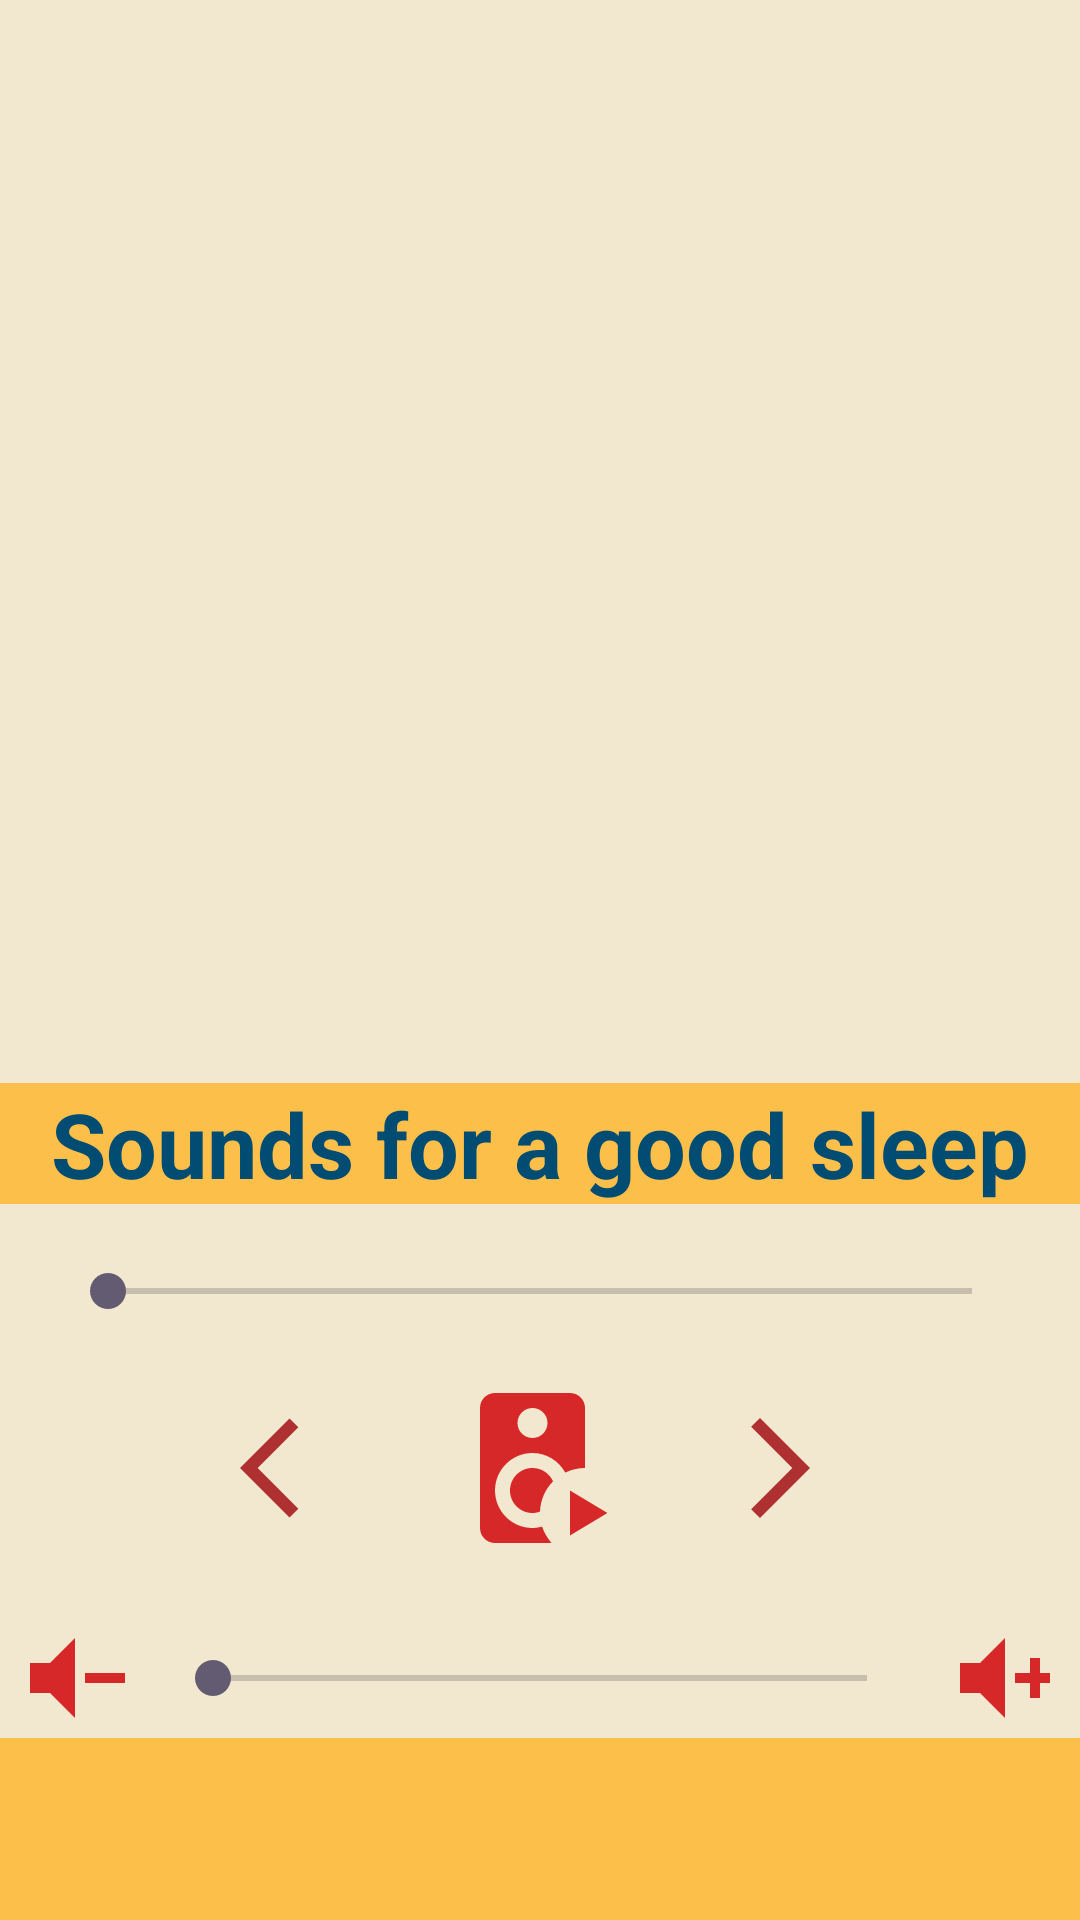

Locate icon controls on the screen. Image size 1080w x 1920h, boxes as {"x1": x1, "y1": y1, "x2": x2, "y2": y2}.
next: {"x1": 751, "y1": 1418, "x2": 810, "y2": 1518}
play: {"x1": 480, "y1": 1393, "x2": 607, "y2": 1543}
previous: {"x1": 240, "y1": 1418, "x2": 298, "y2": 1518}
